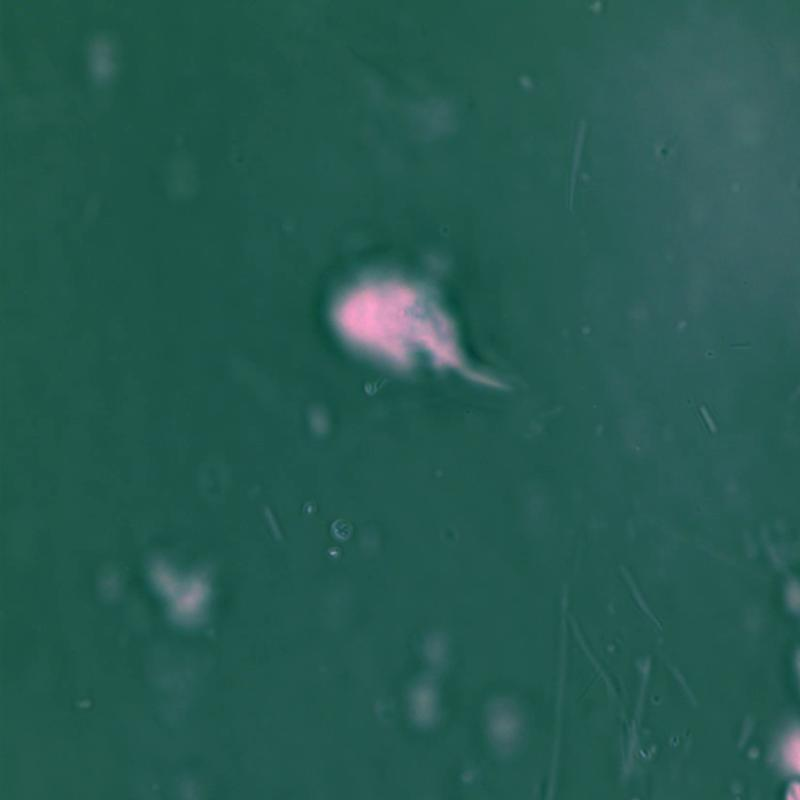depth:100: (286, 233, 571, 428)
